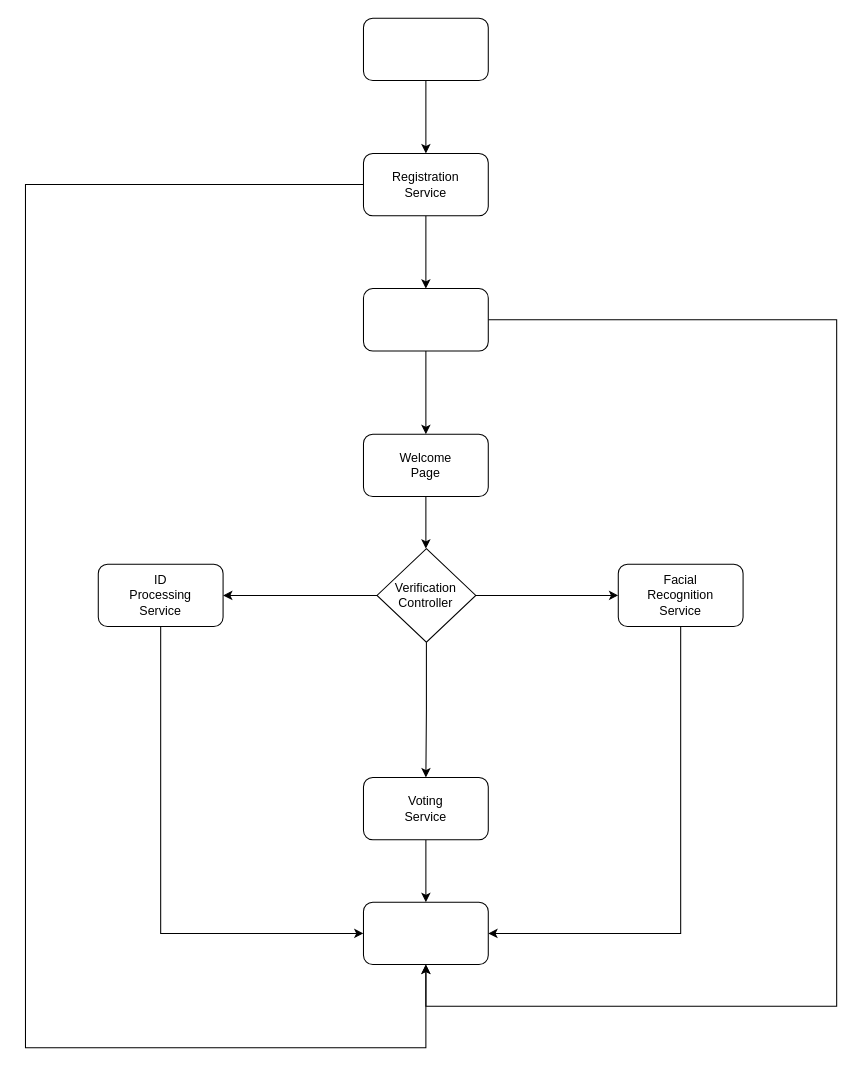
The diagram is 863 pixels wide and 1074 high, and some of its shapes have lost their labels. The centre of each missing label's shape, as x and y in pixels:
Audit Logging Service: point (425, 933)
Authentication Service: point (425, 319)
User: point (425, 49)
